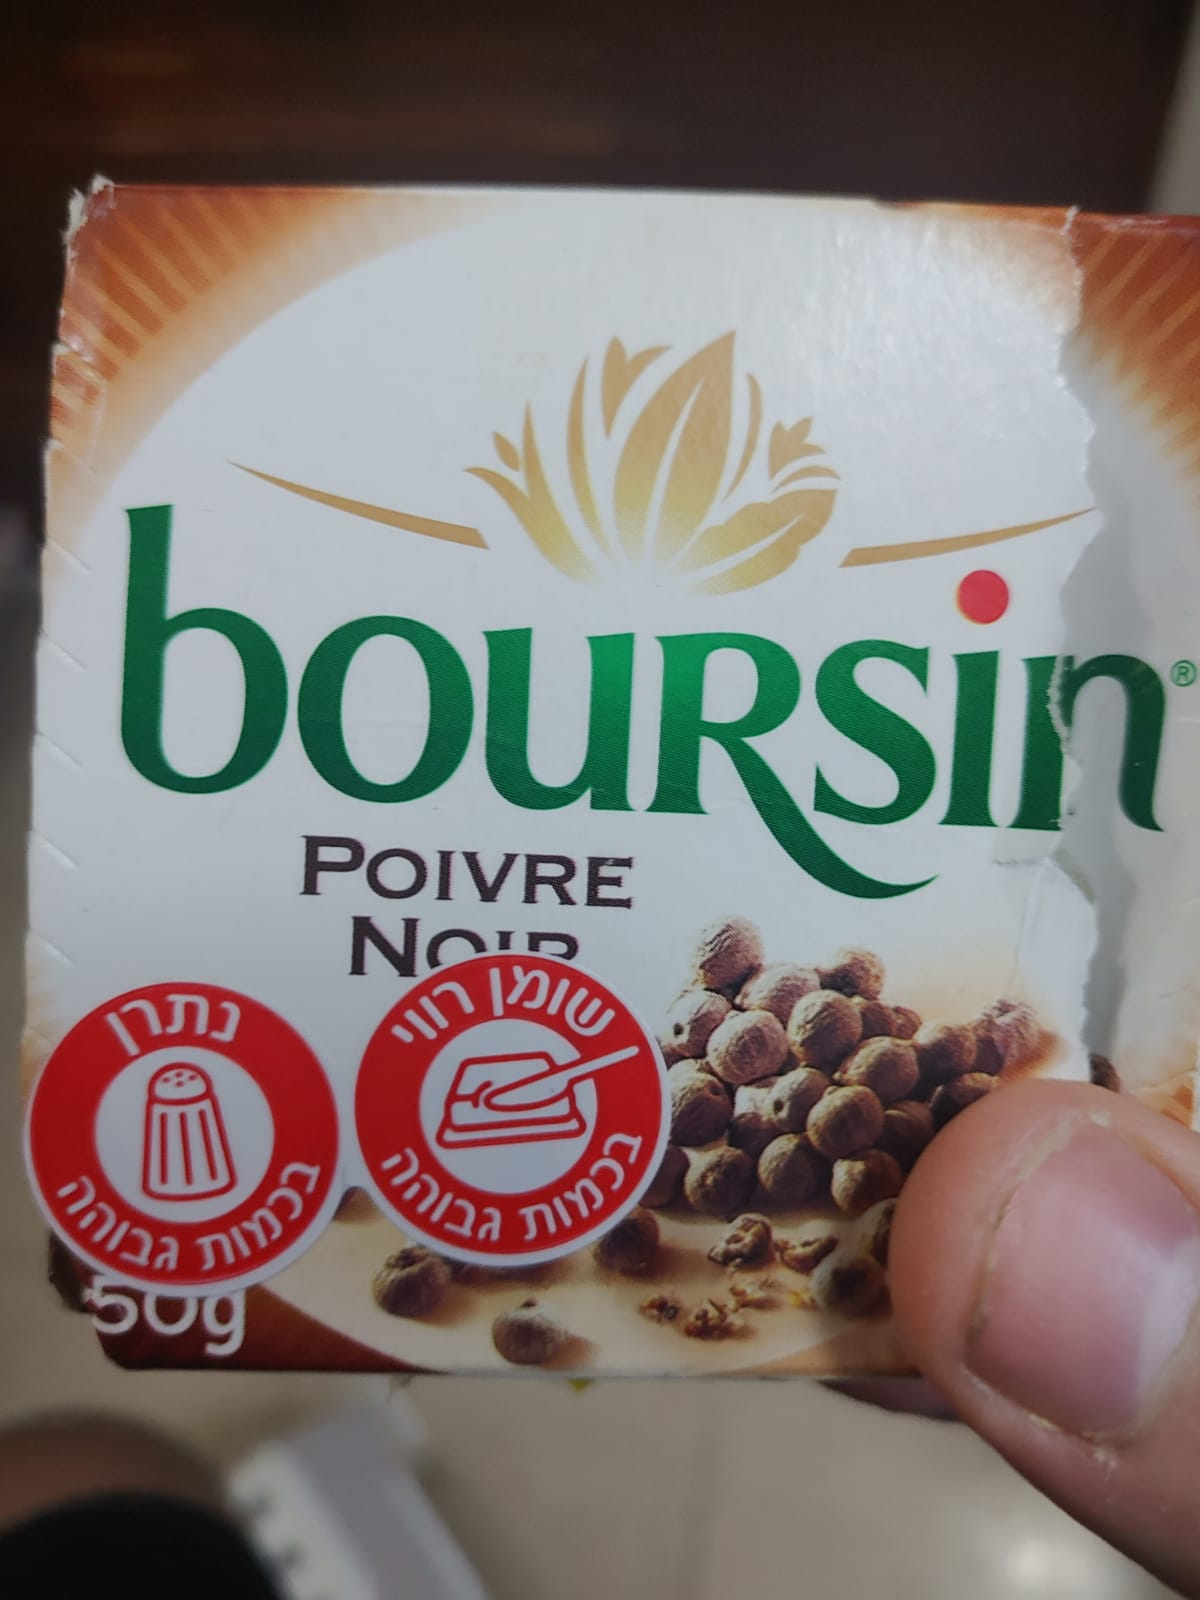fat: (344, 956, 669, 1270)
salt: (21, 985, 344, 1301)
